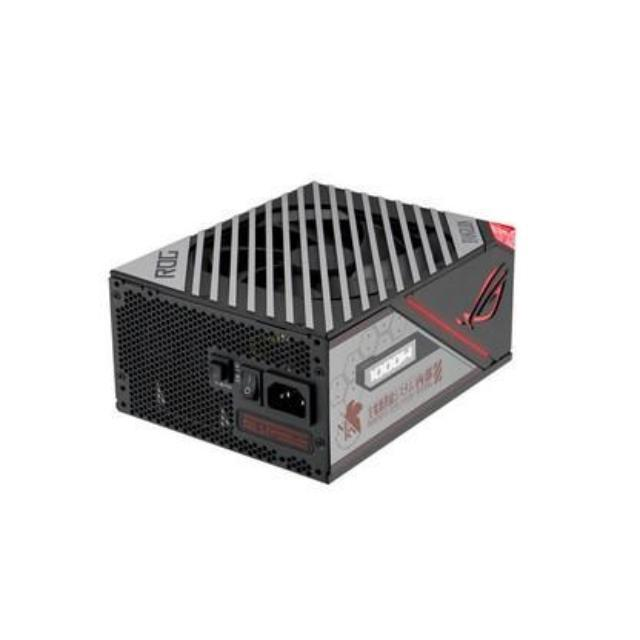PSU: (100, 162, 532, 496)
